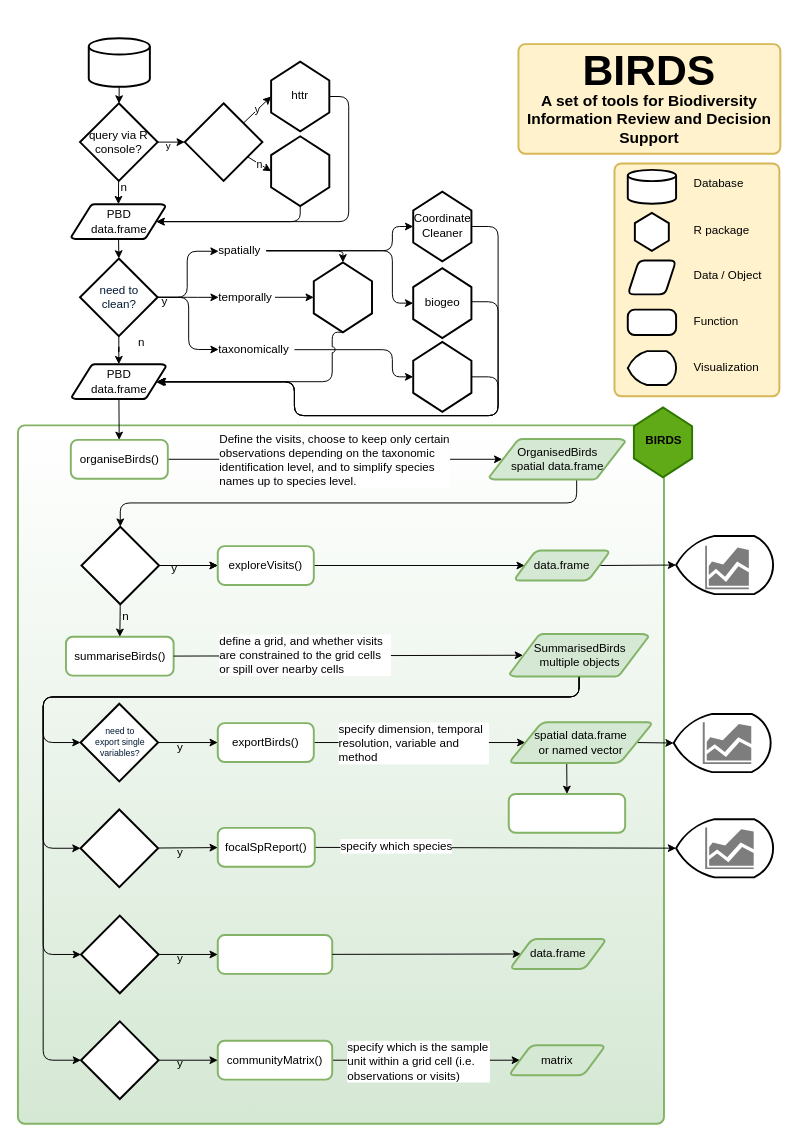
The diagram is 805 pixels wide and 1148 high, and some of its shapes have lost their labels. The centre of each missing label's shape, as x and y in pixels:
Biodiversity Database: point 118,62
exposeIgnorance(): point 566,812
know the APIs?: point 223,141
need to compare among species?: point 119,954
need to do community analyses?: point 119,1059
need to inspect single species?: point 119,848
need to revise the definition of "visit"?: point 120,565
scrubr: point 342,297
speciesSummary(): point 274,954
spocc /rgbif: point 300,171
taxize: point 442,376
